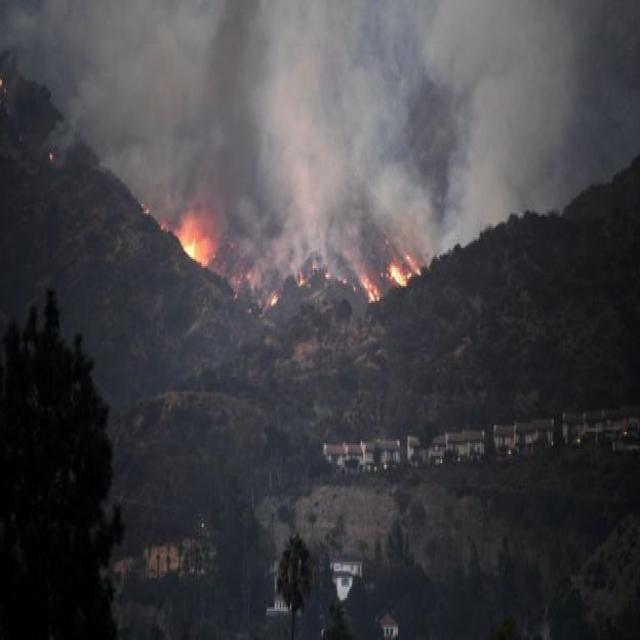Fire: (358, 247, 422, 300), (168, 200, 216, 268)
Smoke: (4, 2, 640, 197), (225, 200, 358, 278), (428, 206, 489, 254)
